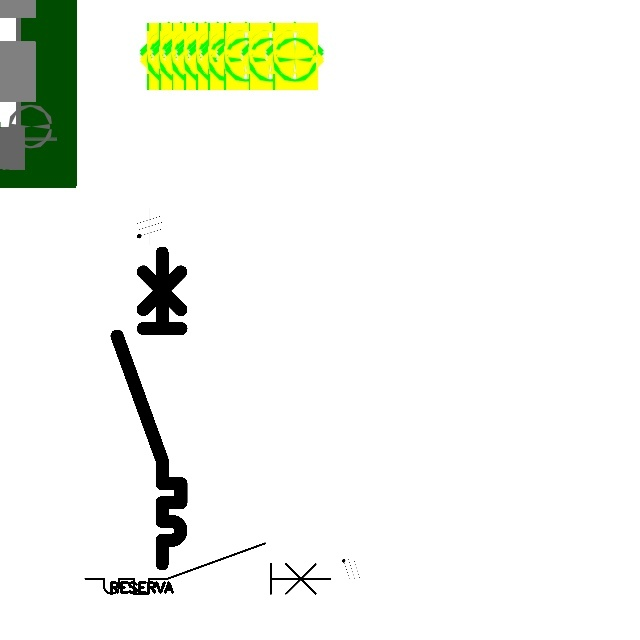interruptor_termomagnetico: (109, 245, 189, 572), (79, 537, 337, 600)
